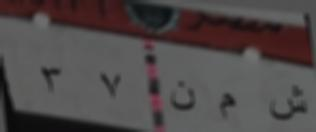3: (36, 62, 65, 96)
7: (98, 68, 123, 103)
meem: (211, 85, 240, 126)
noon: (167, 74, 196, 117)
sheen: (265, 79, 308, 126)
